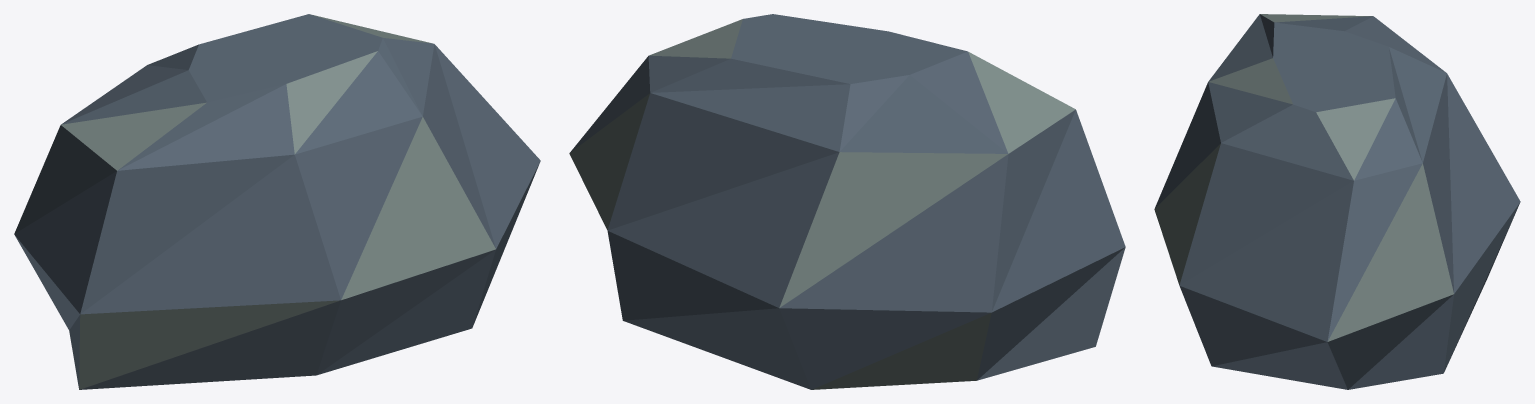
File: river_rock.glb
3 views of the same model, side by side, from view 1: azimuth 30°, elevation 25°; view 2: azimuth 150°, elevation 25°; view 3: azimuth 270°, elevation 25° (orthographic). The views are drawn at different scales.
Visible parts, largest first — view 1: river_rock; view 2: river_rock; view 3: river_rock.
Part boxes in pixels (left/top/right/bottom): river_rock: left=14, top=14, right=540, bottom=389; river_rock: left=569, top=14, right=1125, bottom=389; river_rock: left=1154, top=14, right=1520, bottom=389.
Bounding box in the file's own units: 2.66 × 1.3 × 1.8.
